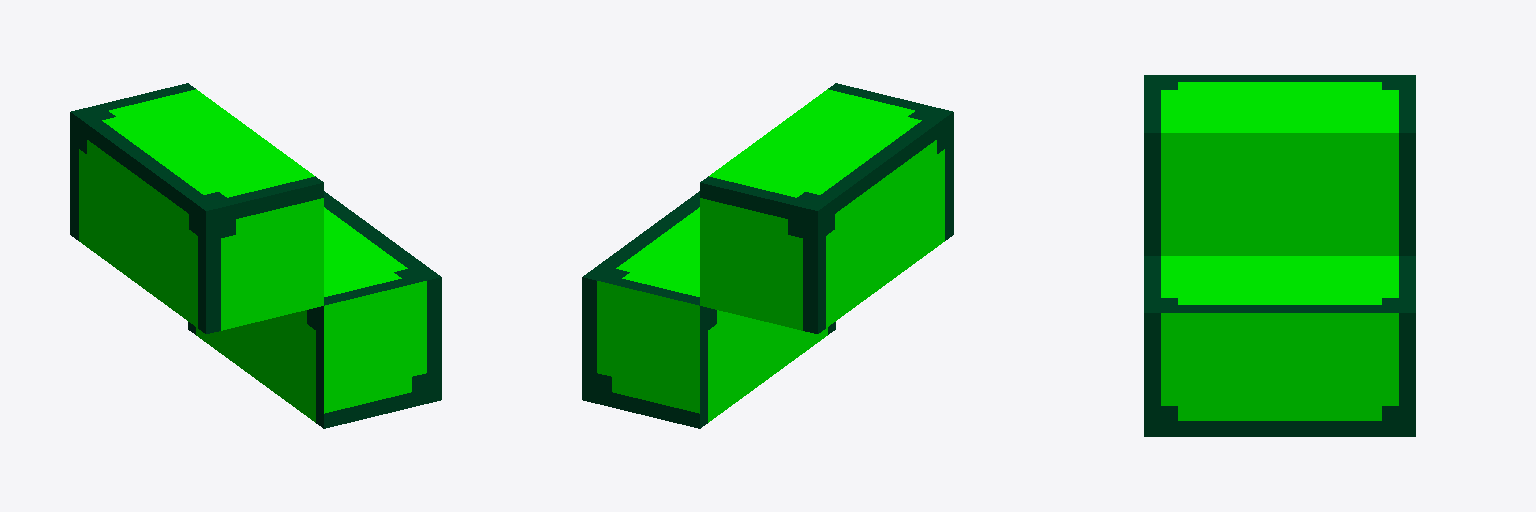
3 views of the same model, side by side, from view 1: azimuth 30°, elevation 25°; view 2: azimuth 150°, elevation 25°; view 3: azimuth 270°, elevation 25° (orthographic).
Parts seen in each view (by area): view 1: 9_green; view 2: 9_green; view 3: 9_green.
Part boxes in pixels (bbox=[...]): 9_green: bbox=[70, 83, 441, 428]; 9_green: bbox=[582, 83, 953, 428]; 9_green: bbox=[1144, 75, 1415, 436].
Size of the model in its own units: 1 by 1 by 1.
1 materials, 1 textured.